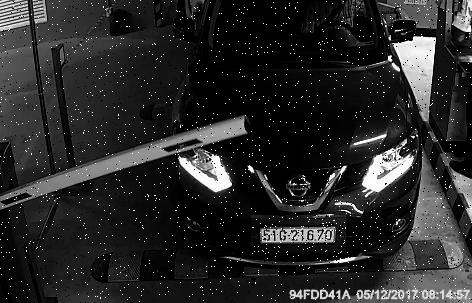License-plate: (252, 216, 347, 255)
